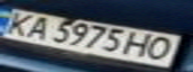3: (42, 17, 72, 45)
5: (103, 26, 130, 55)
7: (84, 22, 109, 52)
9: (66, 20, 90, 48)
A: (15, 13, 54, 42)
H: (124, 30, 157, 59)
K: (0, 10, 39, 36)
O: (142, 34, 184, 62)
